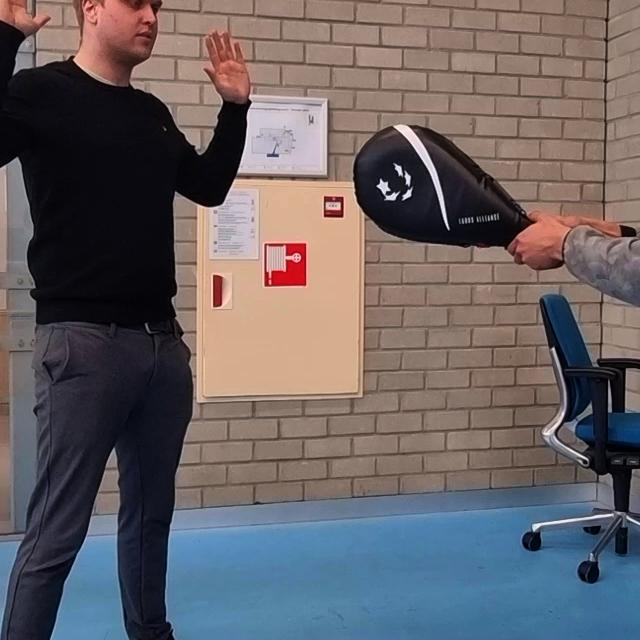paddle: (356, 125, 536, 249)
